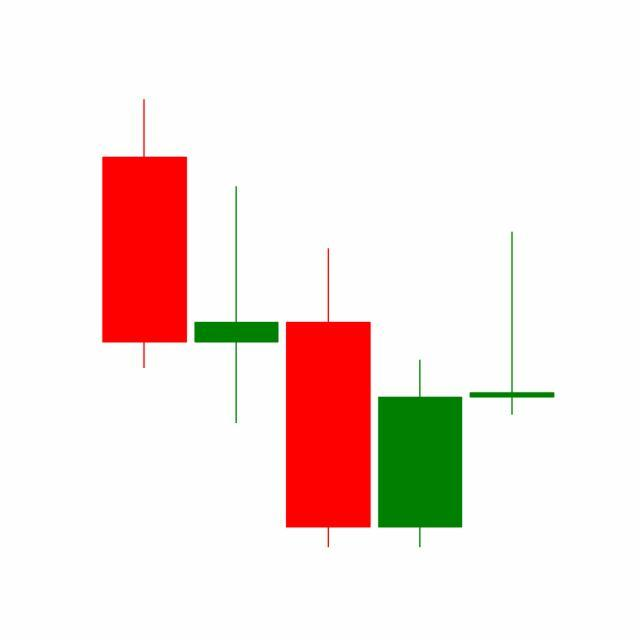Spinning Top: (466, 230, 559, 418)
